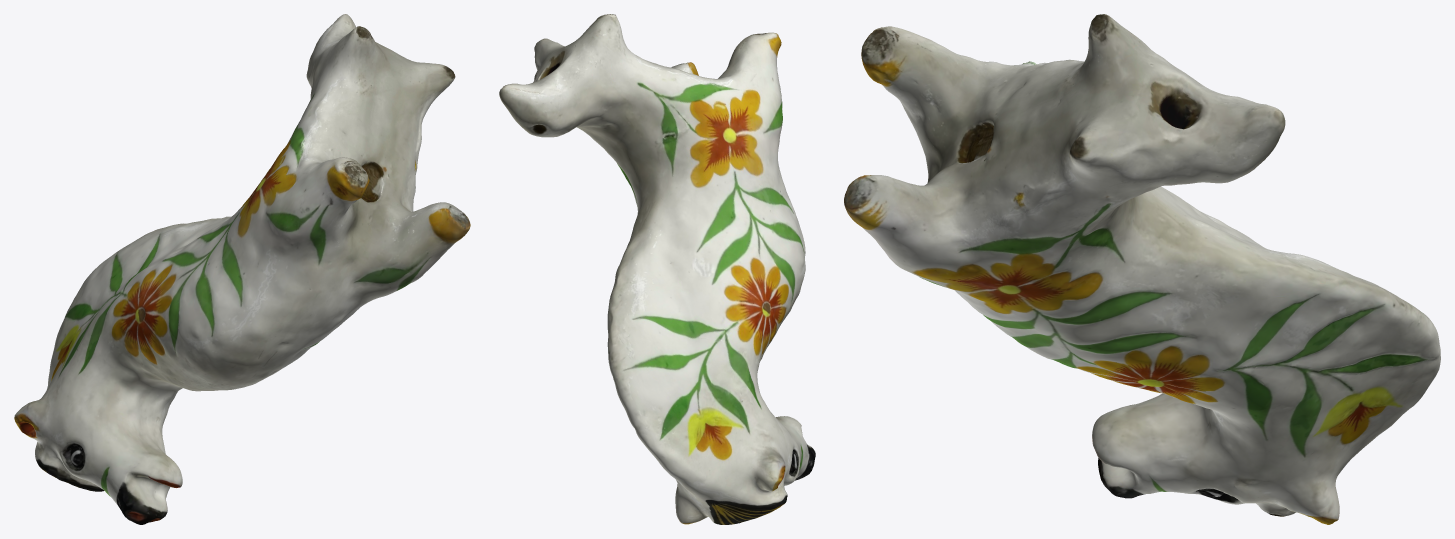
3 views of the same model, side by side, from view 1: azimuth 30°, elevation 25°; view 2: azimuth 150°, elevation 25°; view 3: azimuth 270°, elevation 25° (orthographic). The views are drawn at different scales.
Size of the model in its own units: 0.5987 by 0.7464 by 0.6442.
Materials: 1 (1 with a texture image).
